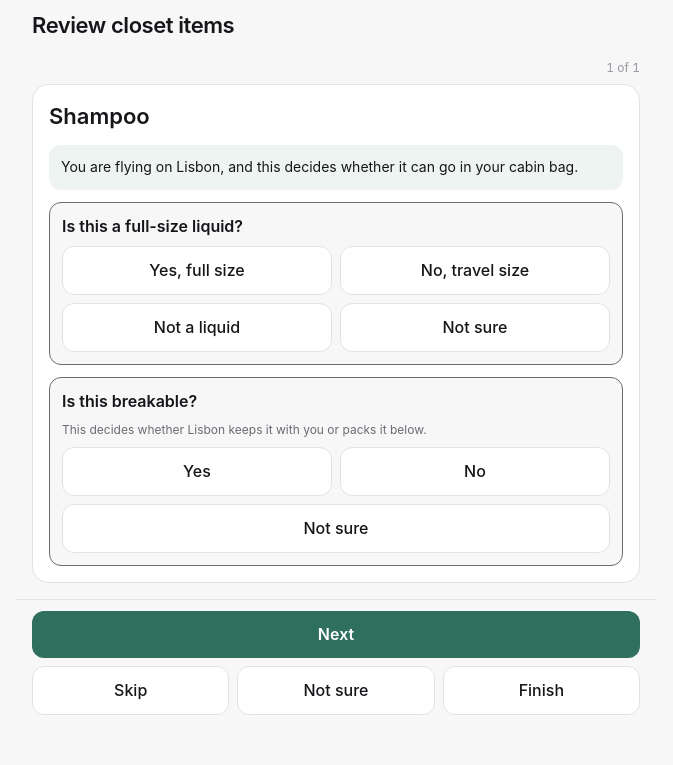
Scenario: answering a bag question › puts the question back when the answer could not be saved
The image size is (673, 765).
Expected: the heading "Shampoo" is shown, [49,103,150,129]
Click the button with aria-label "Yes — Is this breakable?": x=197, y=471 [62,447,332,496]
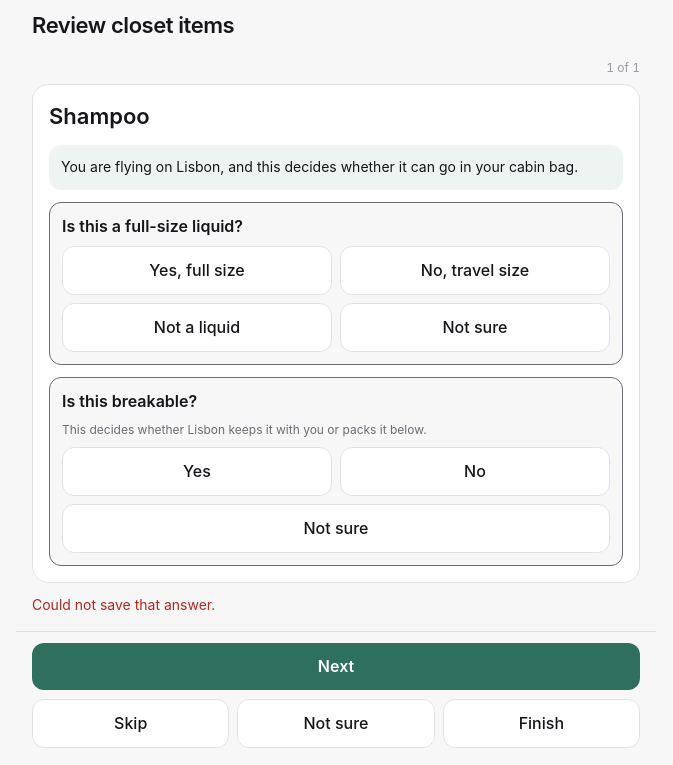
Expected: the heading "Is this breakable?" is shown, [62,391,197,411]
Now the message reads "Could not save that answer.", box [32,596,215,613]
